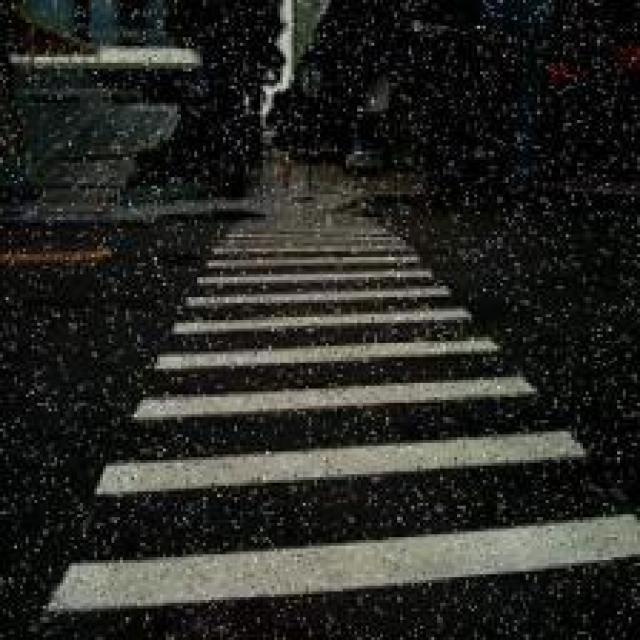crosswalk: (45, 208, 640, 618)
